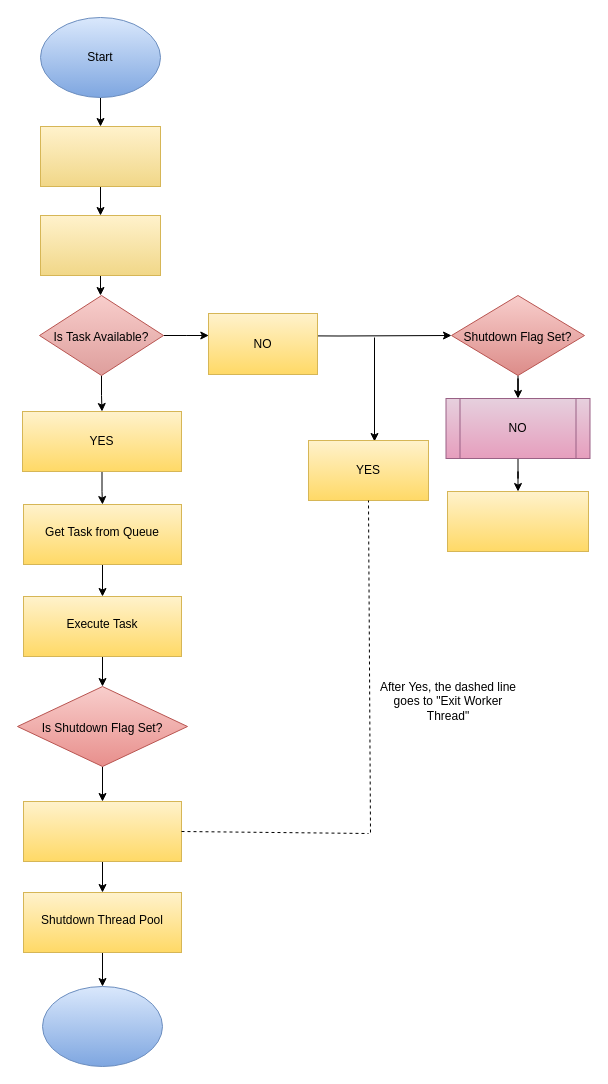
The diagram is 608 pixels wide and 1084 high, and some of its shapes have lost their labels. Here are the shapes that lost their labels. From the top down, the centre of each, then its label:
At (100,156): "Initialize Thread Pool".
At (100,245): "Add Task to Queue".
At (517,521): "Wait for task".
At (102,831): "Exit Worker Thread".
At (102,1026): "End".
